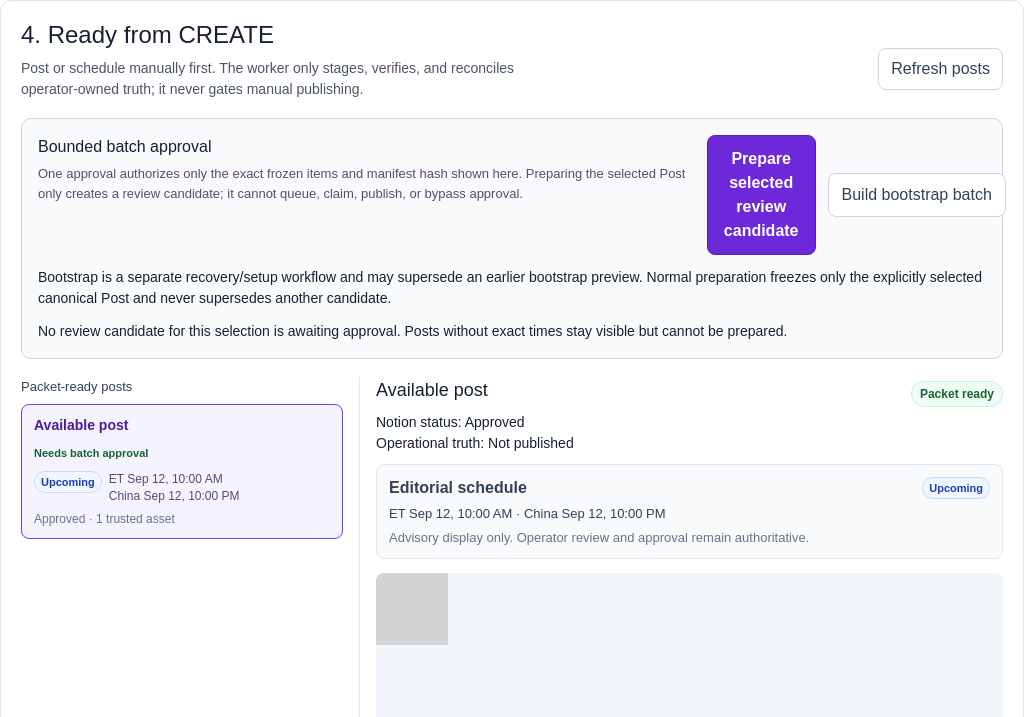
Test: ReadyPostsPanel handoff notice › prepares only the selected Post and leaves approval as a separate action
Click the button "Prepare selected review candidate" at point(761, 195), box [707,135,816,255]
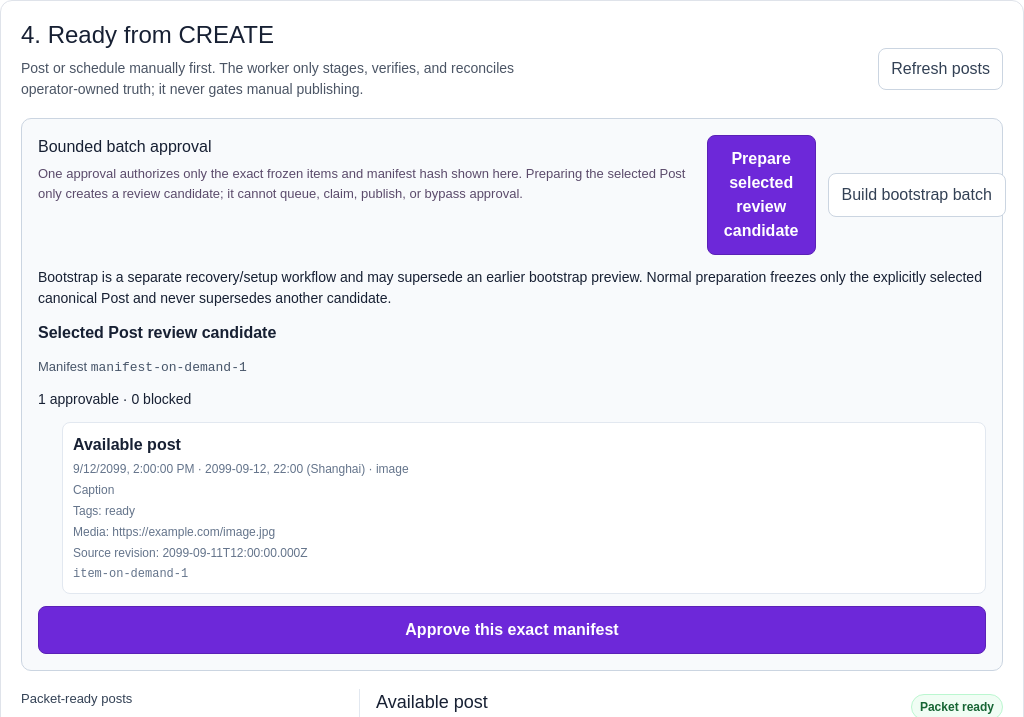
Check: the text "Preparing the selected Post only creates a review candidate" is shown, box [38,166,686,201]
Check: the text "manifest-on-demand-1" is shown, box [91,360,247,375]
Check: the text "Approve this exact manifest" is shown, box [38,606,986,654]
